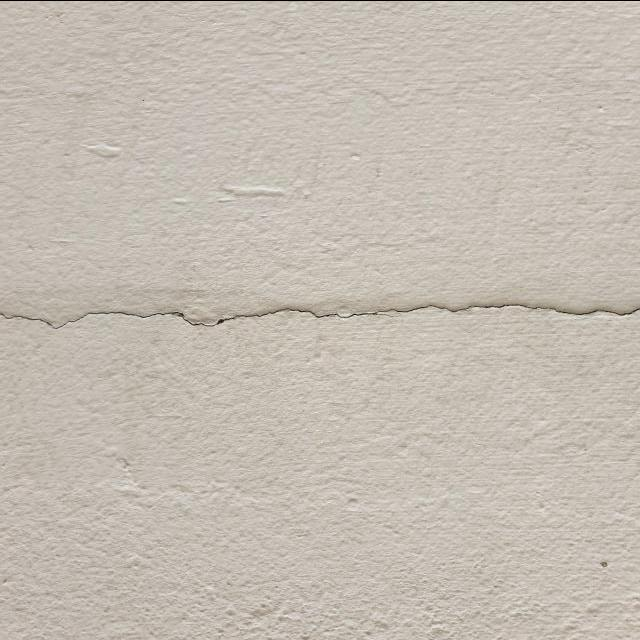SurfaceCrack: (0, 251, 639, 376)
